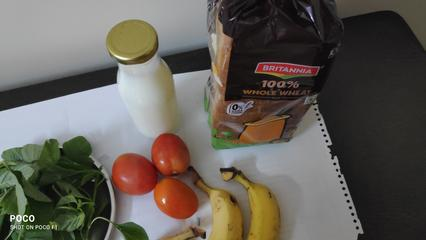banana: (204, 172, 273, 240)
bread: (203, 4, 324, 153)
milk: (112, 22, 192, 139)
spinach: (9, 157, 102, 233)
tomato: (117, 128, 198, 223)
